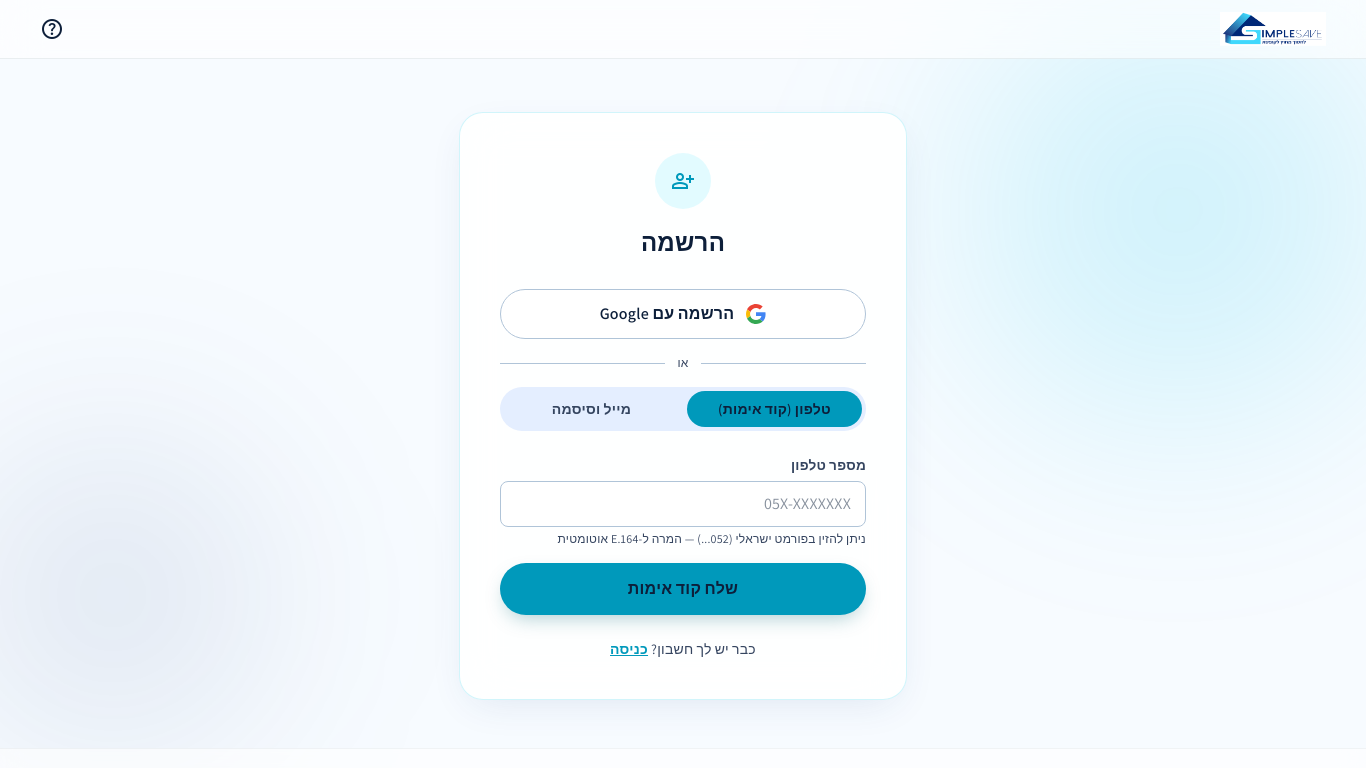
a failed email signup shows the generic error and never migrates the draft or claims a role
This screenshot has width=1366, height=768.
Click the button "מייל וסיסמה" at (592, 409), box [504, 391, 679, 427]
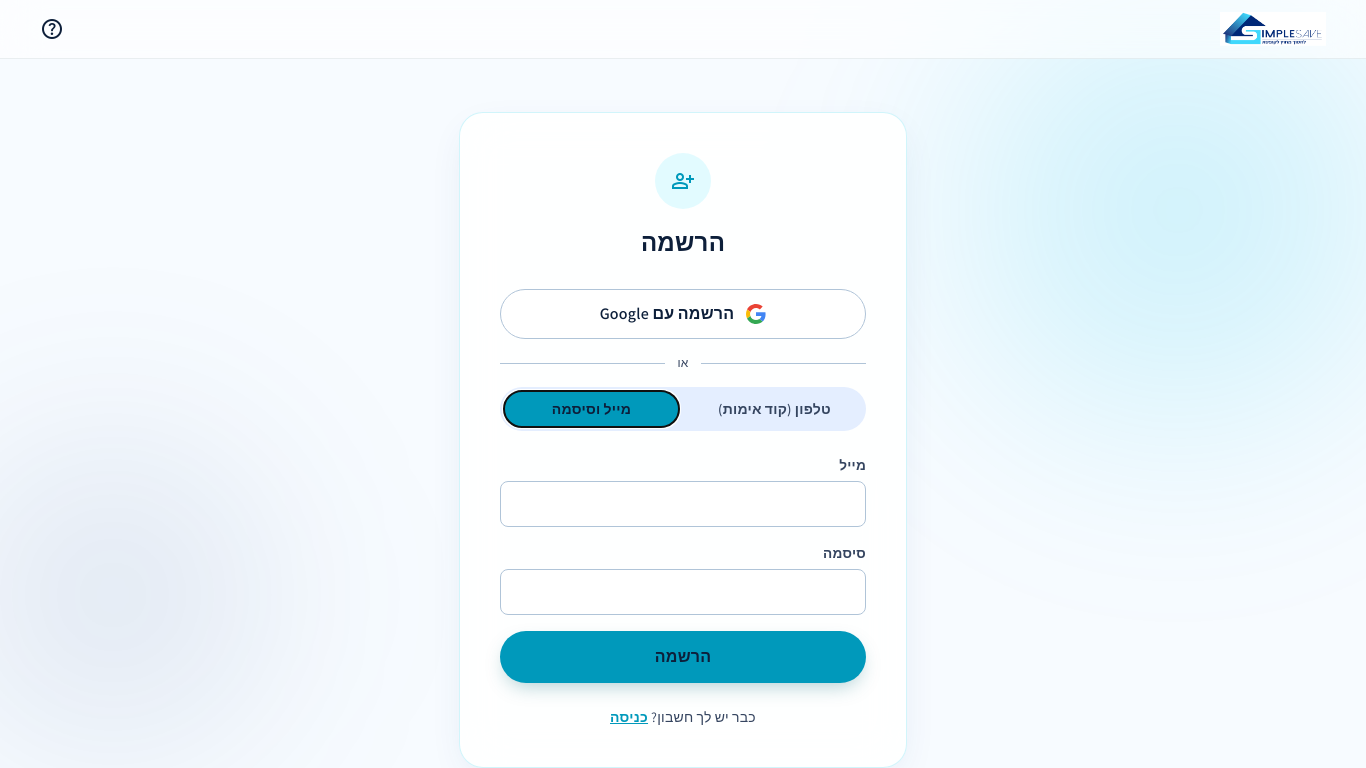
Type "dana@example.com" into the field labelled "מייל" at (683, 504), box [500, 481, 866, 527]
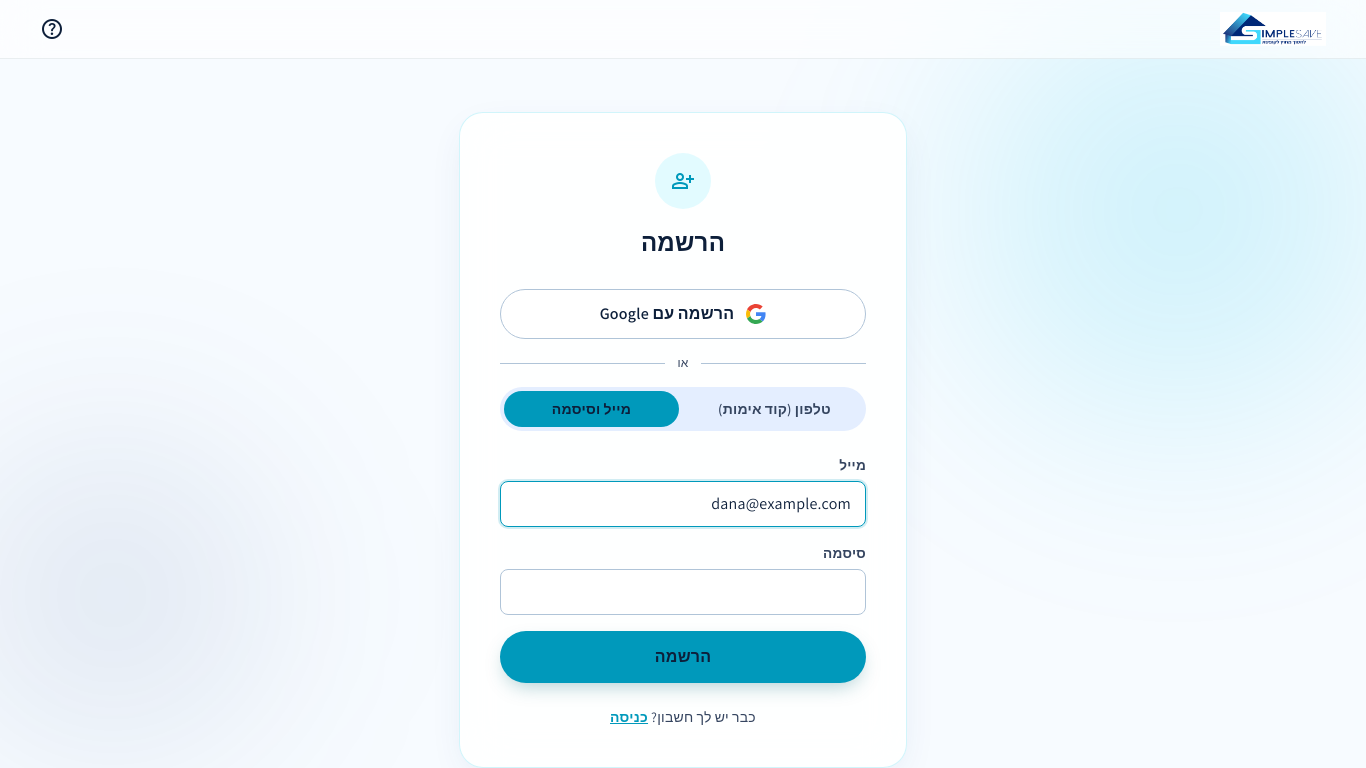
Type "super-secret" into the password field labelled "סיסמה" at (683, 592), box [500, 569, 866, 615]
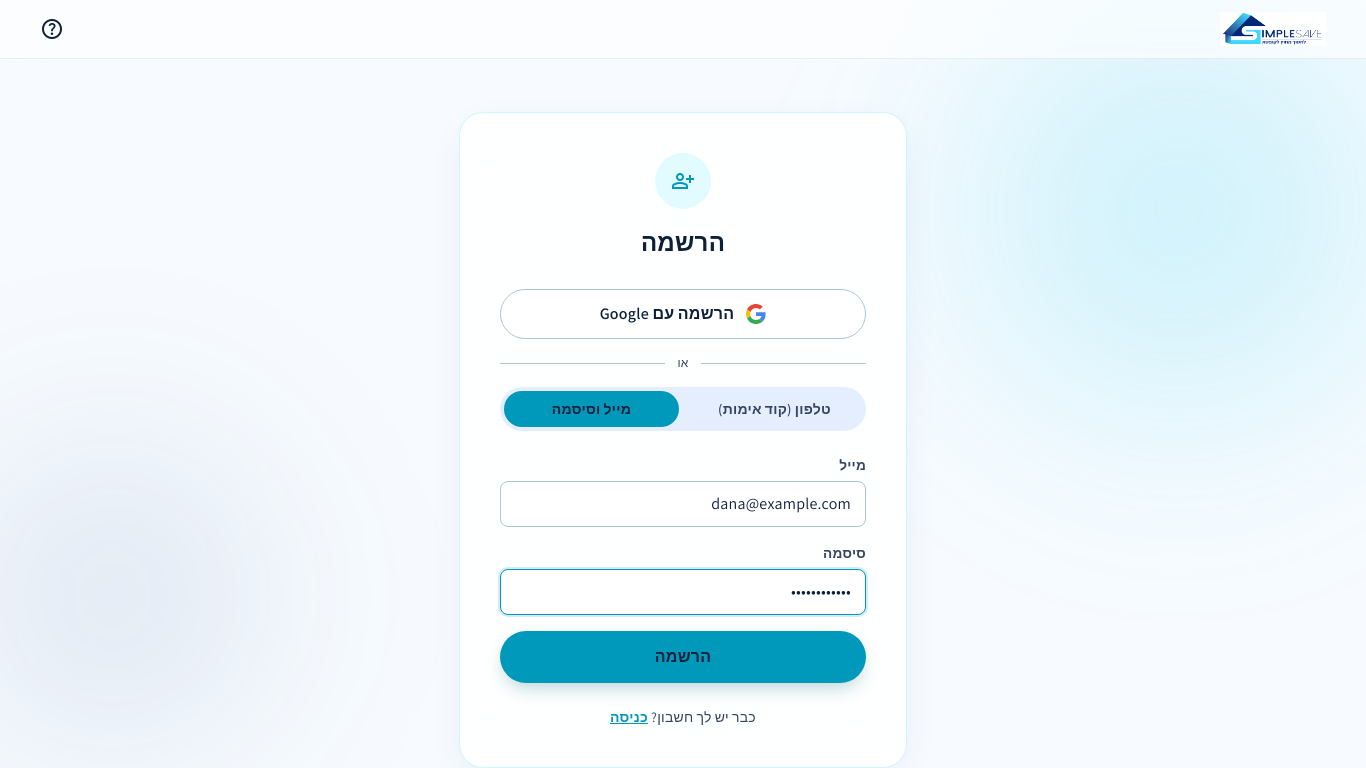
Click the button "הרשמה" at (683, 657), box [500, 631, 866, 683]
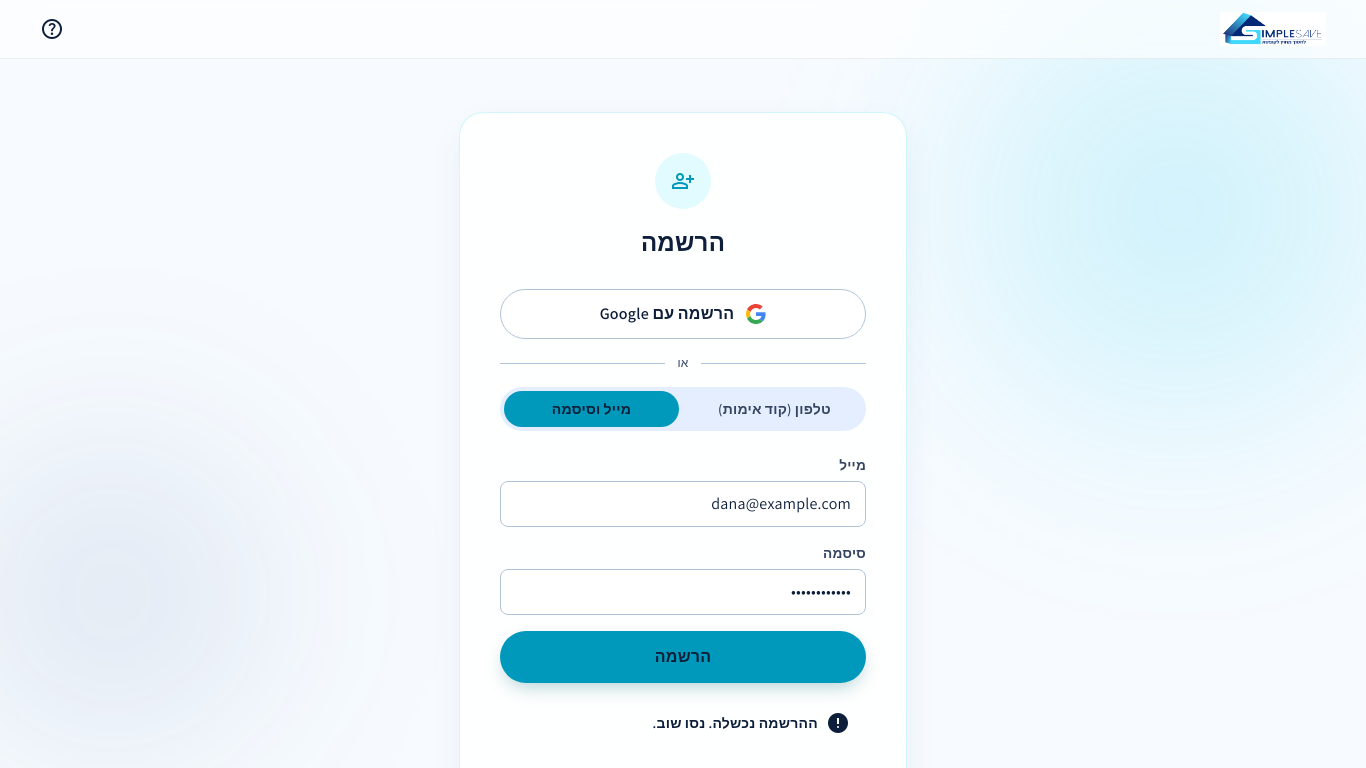
Check: the message reads "ההרשמה נכשלה. נסו שוב.", box [653, 714, 818, 732]
